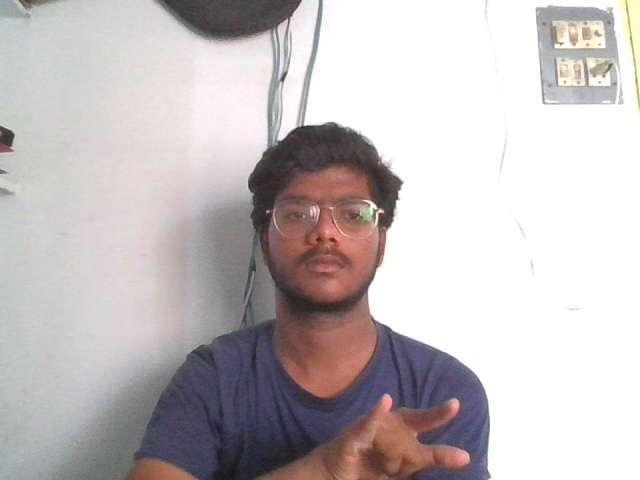IloveYou: (327, 383, 469, 480)
